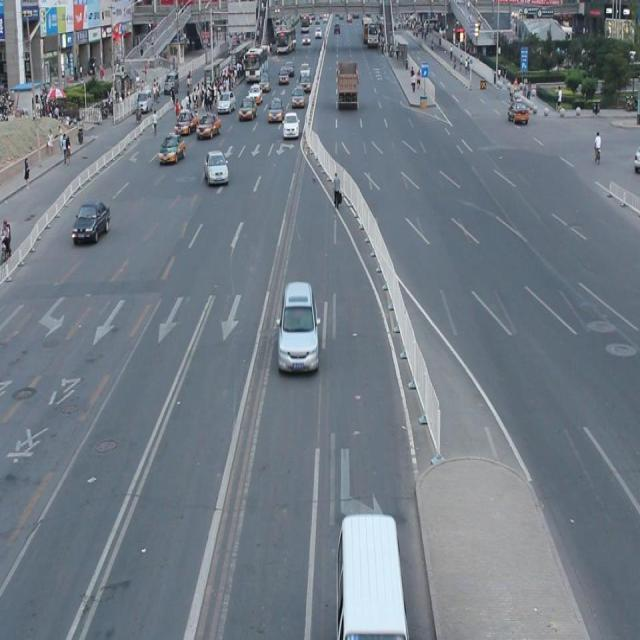car: (276, 278, 318, 373), (72, 200, 111, 243), (204, 150, 228, 185)
truck: (333, 513, 408, 640)
